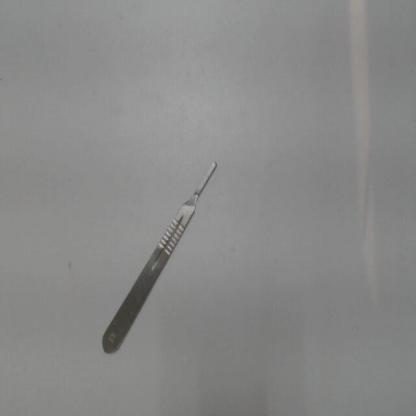No.4 BP Handle: (94, 150, 232, 361)
